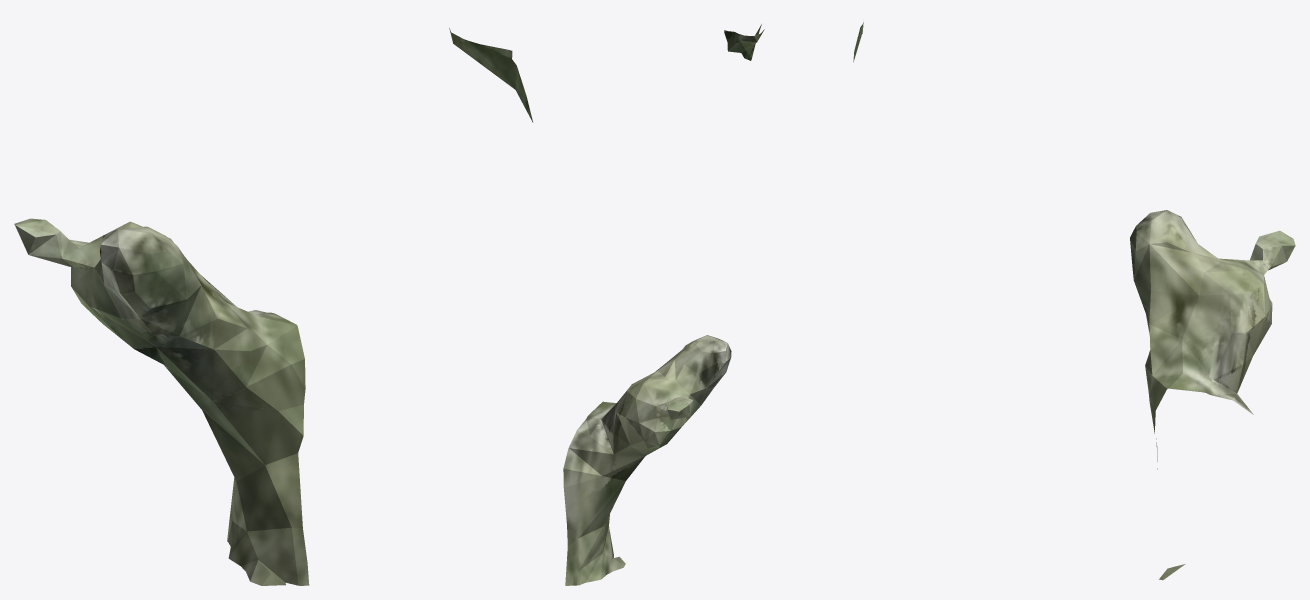
3 views of the same model, side by side, from view 1: azimuth 30°, elevation 25°; view 2: azimuth 150°, elevation 25°; view 3: azimuth 270°, elevation 25° (orthographic). The views are drawn at different scales.
Size of the model in its own units: 0.9206 by 2.95 by 2.42.
Materials: 1 (1 with a texture image).
